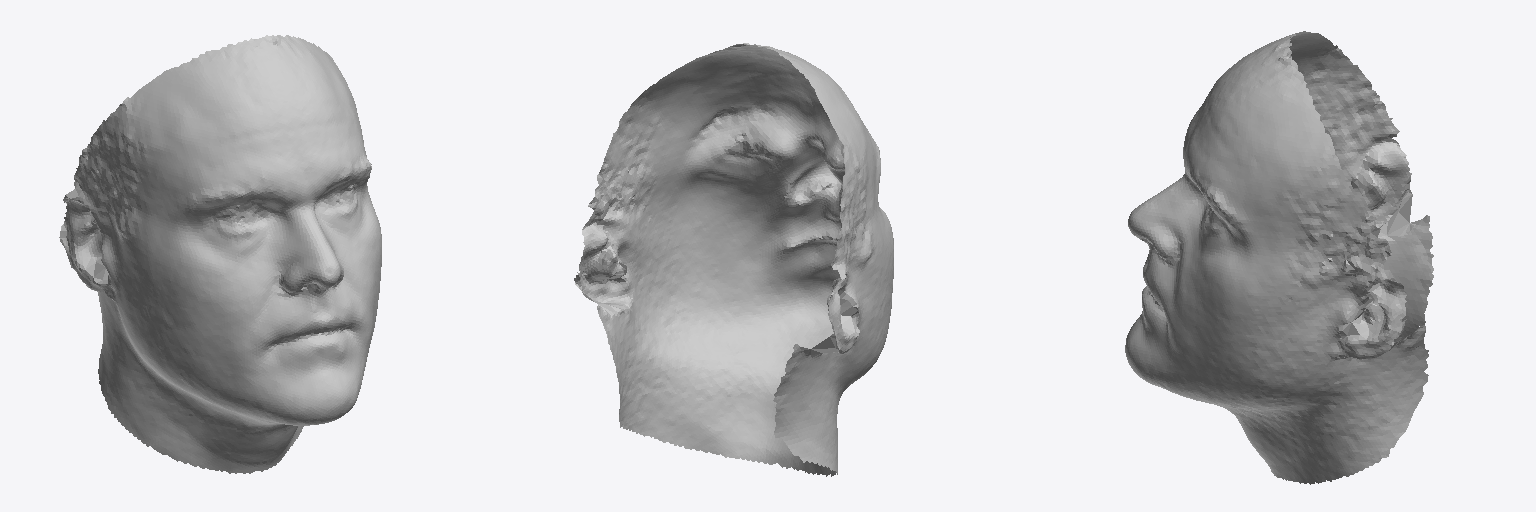
File: demoFace.obj
3 views of the same model, side by side, from view 1: azimuth 30°, elevation 25°; view 2: azimuth 150°, elevation 25°; view 3: azimuth 270°, elevation 25° (orthographic).
Parts seen in each view (by area): view 1: demoFace; view 2: demoFace; view 3: demoFace.
Part boxes in pixels (x1,y1,x2,y2): demoFace: (59, 35, 381, 473); demoFace: (574, 43, 893, 476); demoFace: (1125, 31, 1433, 484).
Bounding box in the file's own units: 178 × 273 × 180.